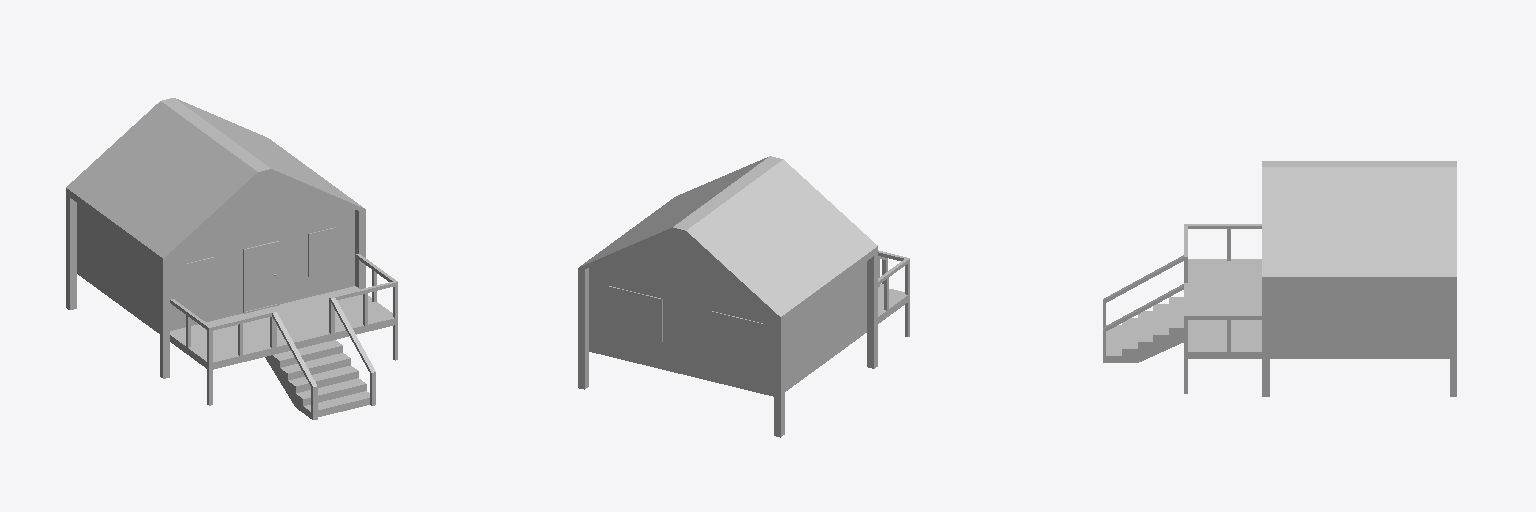
Rendered from beachHouse1.obj.
3 renders of one model, left to right at view 1: azimuth 30°, elevation 25°; view 2: azimuth 150°, elevation 25°; view 3: azimuth 270°, elevation 25°, orthographic.
Visible parts, largest first — view 1: Cube_Cube.001; view 2: Cube_Cube.001; view 3: Cube_Cube.001.
Part boxes in pixels (left/top/right/bottom): Cube_Cube.001: left=66, top=98, right=397, bottom=419; Cube_Cube.001: left=578, top=156, right=909, bottom=437; Cube_Cube.001: left=1103, top=161, right=1456, bottom=396.
Size of the model in its own units: 30 by 26 by 45.5.